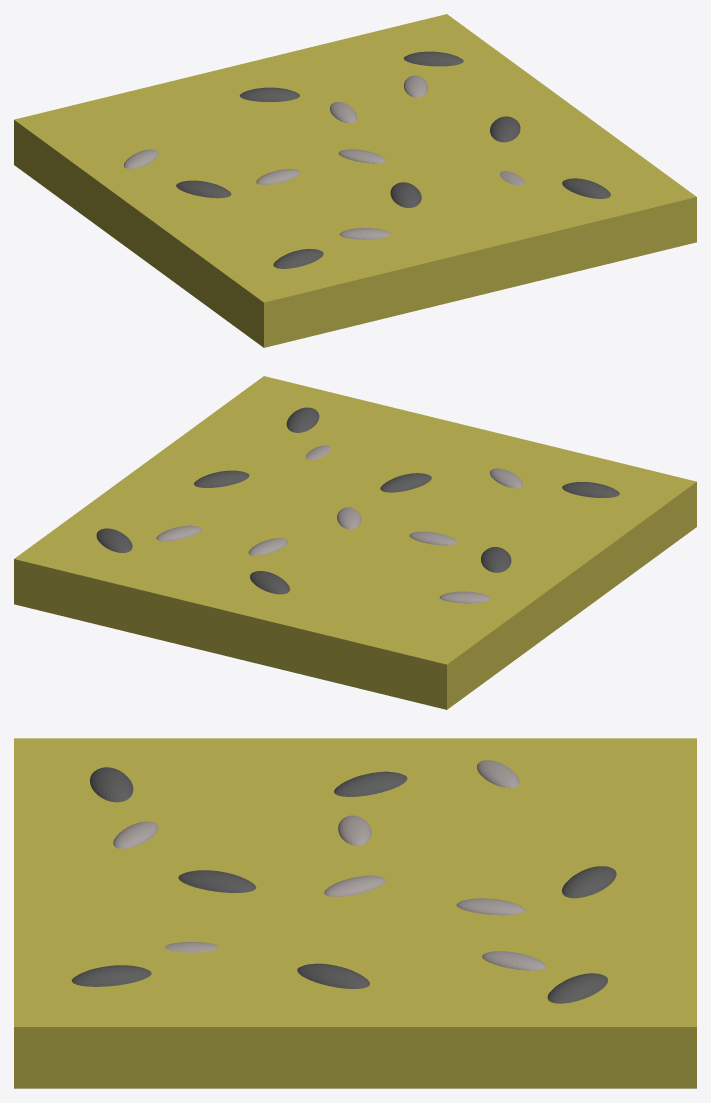
The model's file is Sand.fbx.
The picture shows the model from 3 angles, top to bottom: view 1: azimuth 30°, elevation 25°; view 2: azimuth 150°, elevation 25°; view 3: azimuth 270°, elevation 25°; orthographic projection. The views are drawn at different scales.
Parts seen in each view (by area): view 1: Cube, Sphere.012, Sphere.006, Sphere.011, Sphere.009, Sphere.010, Sphere.008, Sphere.007; view 2: Cube, Sphere.008, Sphere.010, Sphere.007, Sphere.006, Sphere.012, Sphere.009, Sphere.011; view 3: Cube, Sphere.009, Sphere.007, Sphere.011, Sphere.008, Sphere.012, Sphere.006, Sphere.010, Sphere.013, Sphere.005, Sphere.003, Sphere.002 (+2 smaller).
Part boxes in pixels (x1,y1,x2,y2): Cube: (14,14,696,347); Sphere.012: (403,51,463,66); Sphere.006: (239,87,299,101); Sphere.011: (176,180,231,198); Sphere.009: (562,178,610,198); Sphere.010: (273,249,323,268); Sphere.008: (490,116,520,142); Sphere.007: (390,182,421,207); Cube: (14,376,696,709); Sphere.008: (194,470,249,487); Sphere.010: (562,482,619,497); Sphere.007: (380,473,431,492); Sphere.006: (250,571,289,594); Sphere.012: (96,528,132,552); Sphere.009: (286,407,319,432); Sphere.011: (481,547,511,572); Cube: (14,738,696,1088); Sphere.009: (71,965,151,986); Sphere.007: (178,870,256,892); Sphere.011: (334,771,407,796); Sphere.008: (297,963,369,988); Sphere.012: (547,973,607,1003); Sphere.006: (562,866,616,898); Sphere.010: (90,767,133,802); Sphere.013: (456,898,525,915); Sphere.005: (482,951,546,970); Sphere.003: (324,875,385,896); Sphere.002: (113,821,158,848).
Bounding box in the file's own units: 100 × 11.3 × 100.
